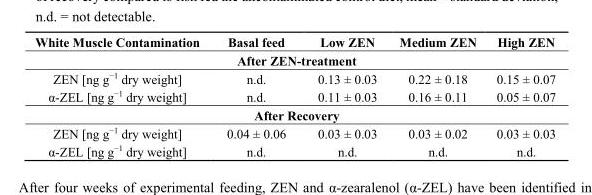table: (34, 34, 555, 158)
table column: (34, 34, 212, 158), (387, 34, 485, 158), (212, 34, 301, 158), (301, 34, 387, 158), (485, 34, 555, 158)
table column header: (34, 34, 555, 68)
table projected row header: (34, 105, 555, 123)
table row: (34, 86, 555, 105), (34, 50, 555, 68), (34, 68, 555, 86), (34, 105, 555, 123), (34, 123, 555, 141), (34, 141, 555, 158), (34, 34, 555, 50)
table spanning cell: (34, 50, 555, 68)
